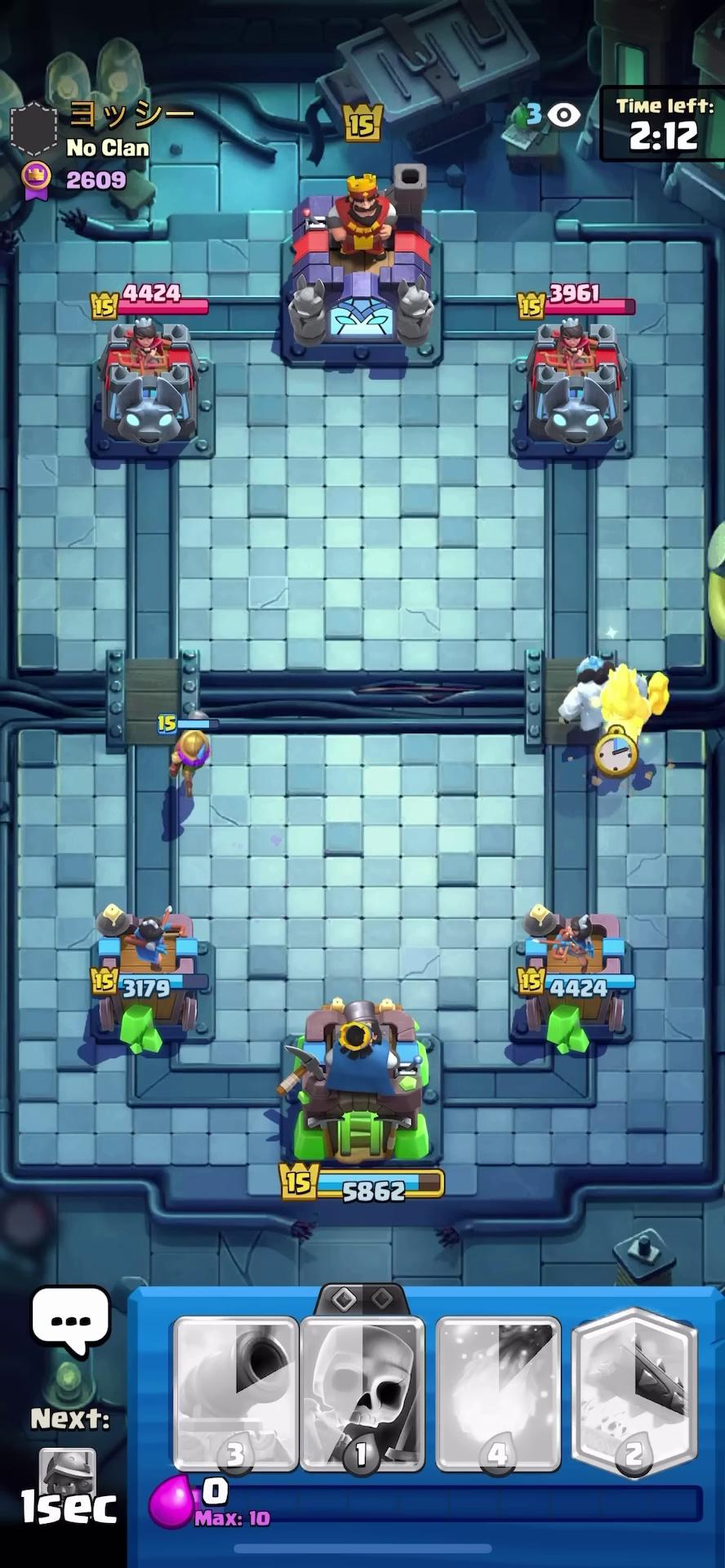hog_rider: (592, 657, 674, 737)
ice_golem: (565, 641, 625, 745)
musketeer: (155, 682, 227, 808)
